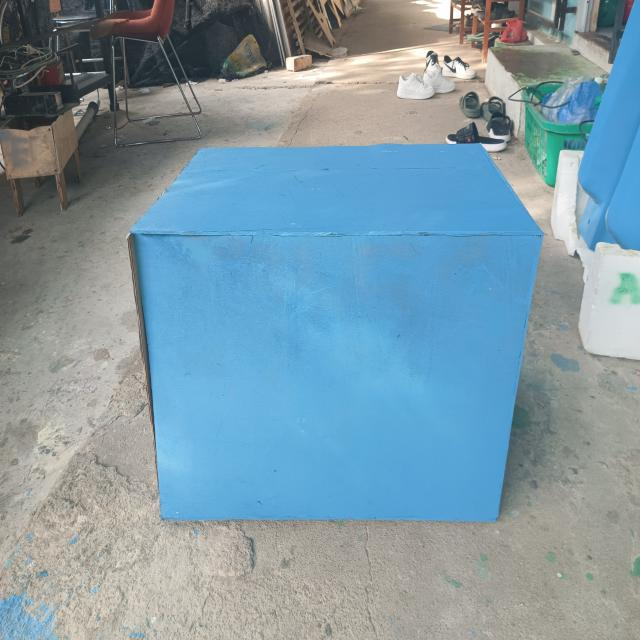blue_box: (121, 130, 529, 528)
